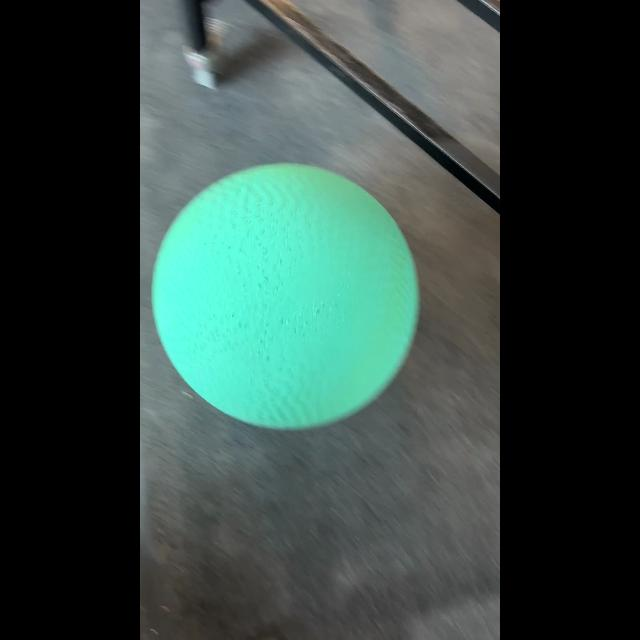ALGAE: (151, 162, 421, 430)
